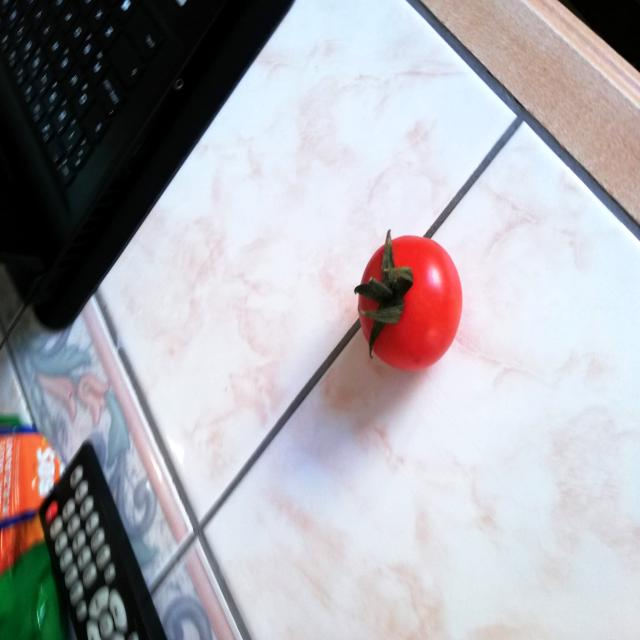tomato: (350, 226, 466, 375)
